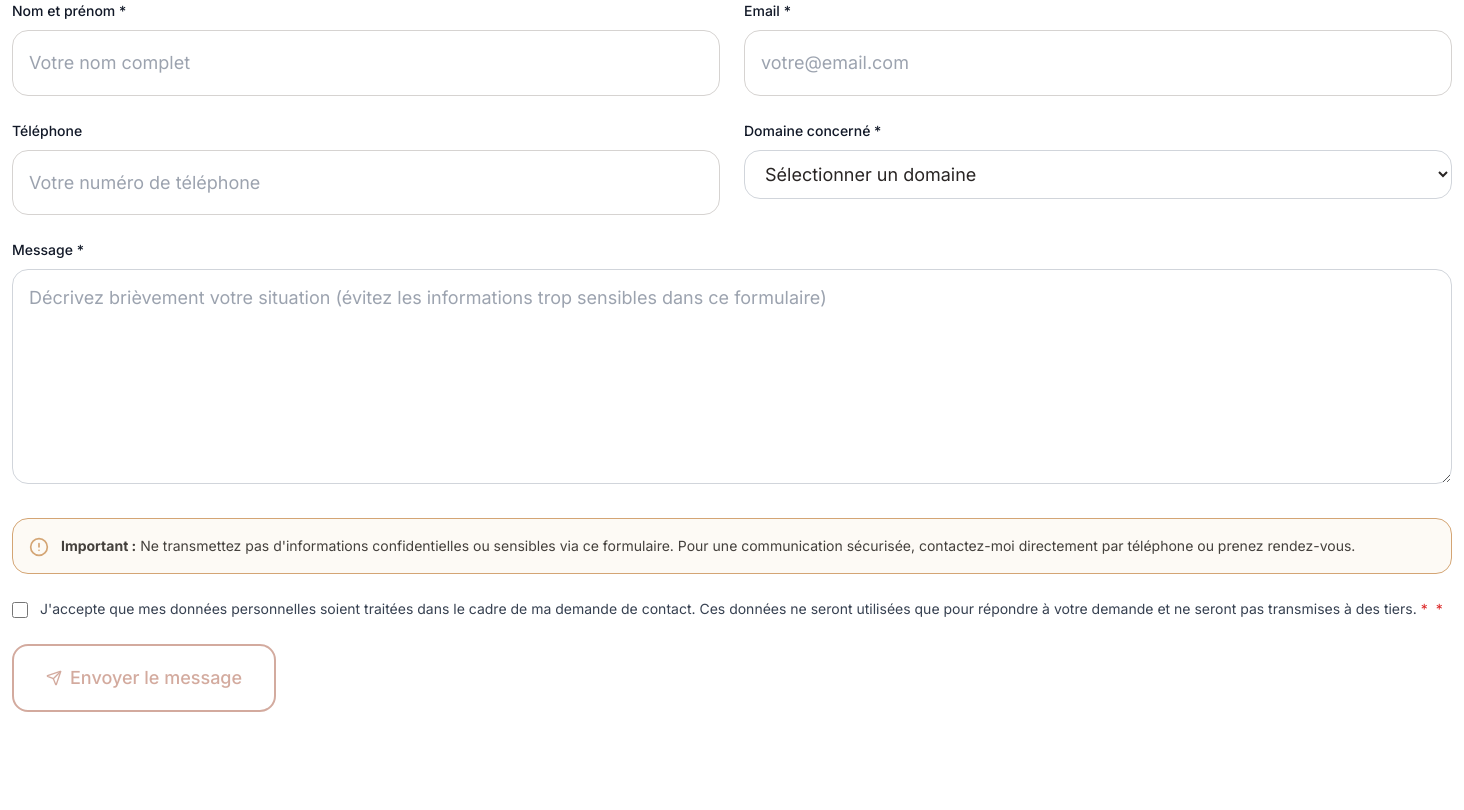
Scenario: ContactForm Integration › should show loading state while submitting
Note: Fill in all required fields
In the field labelled "Nom et prénom *": (366,63) [12,30,720,96], type "John Doe"
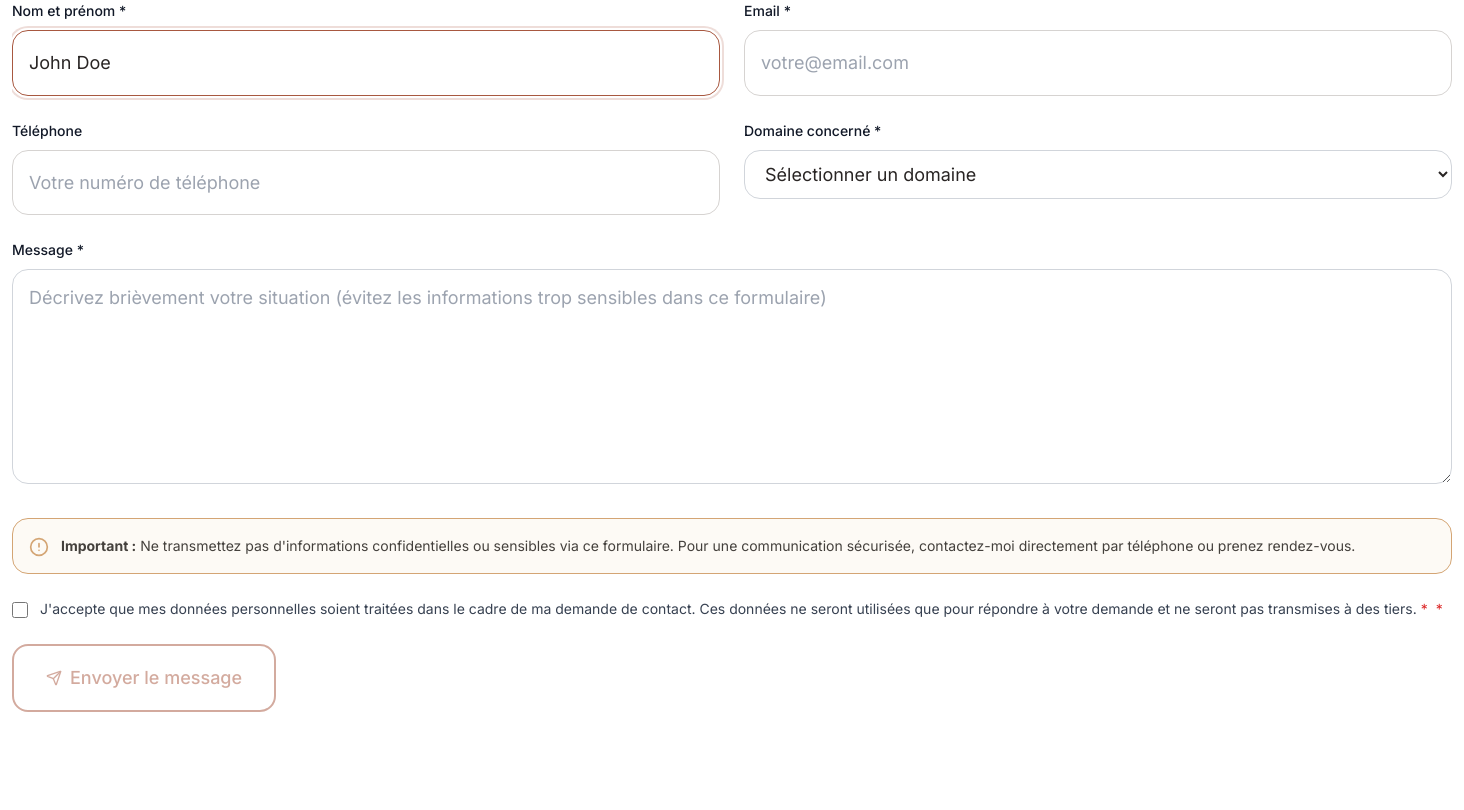
In the field labelled "Email *": (1098,63) [744,30,1452,96], type "john@example.com"
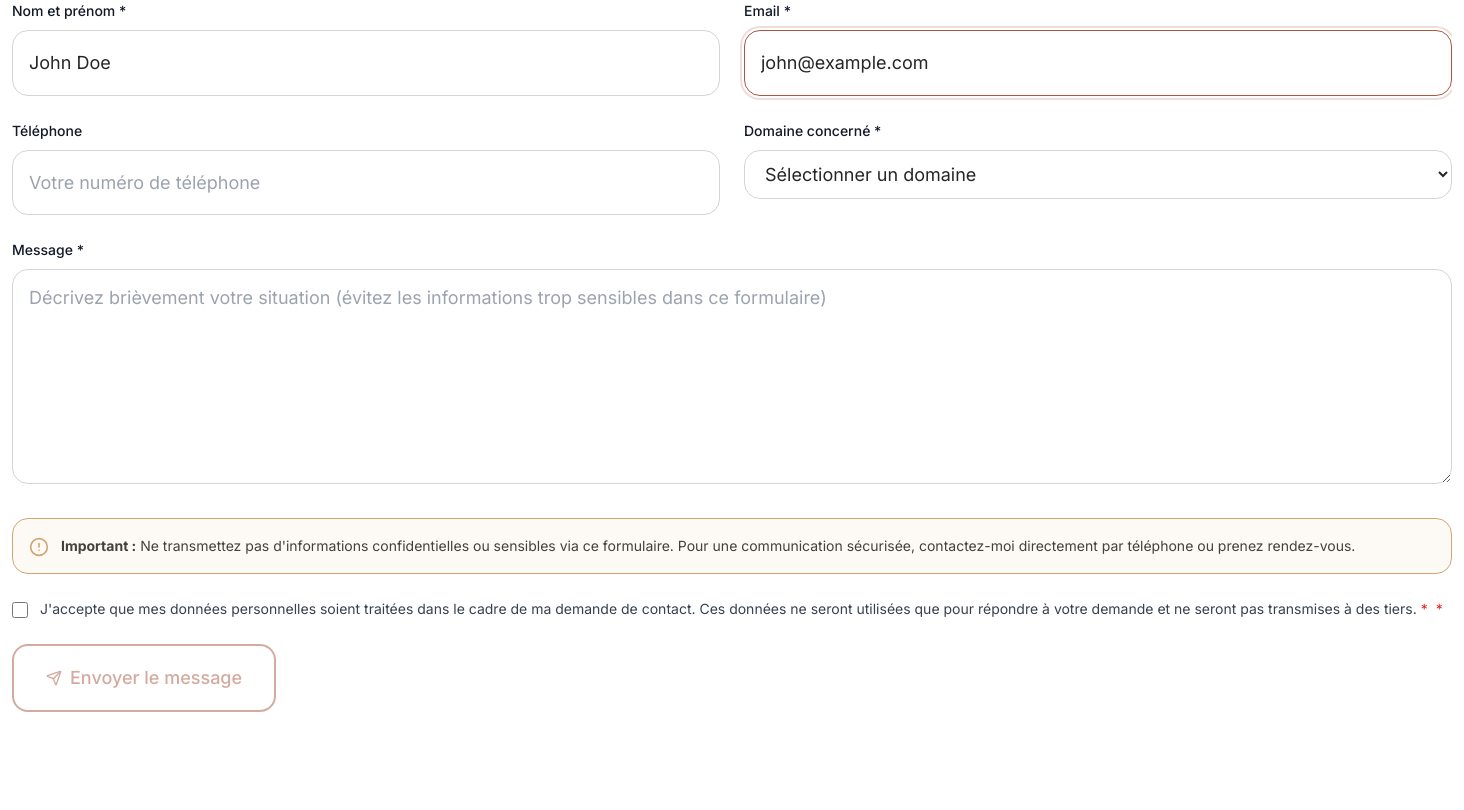
Select "Droit des contrats" in the dropdown labelled "Domaine concerné *": (1098,174) [744,150,1452,198]
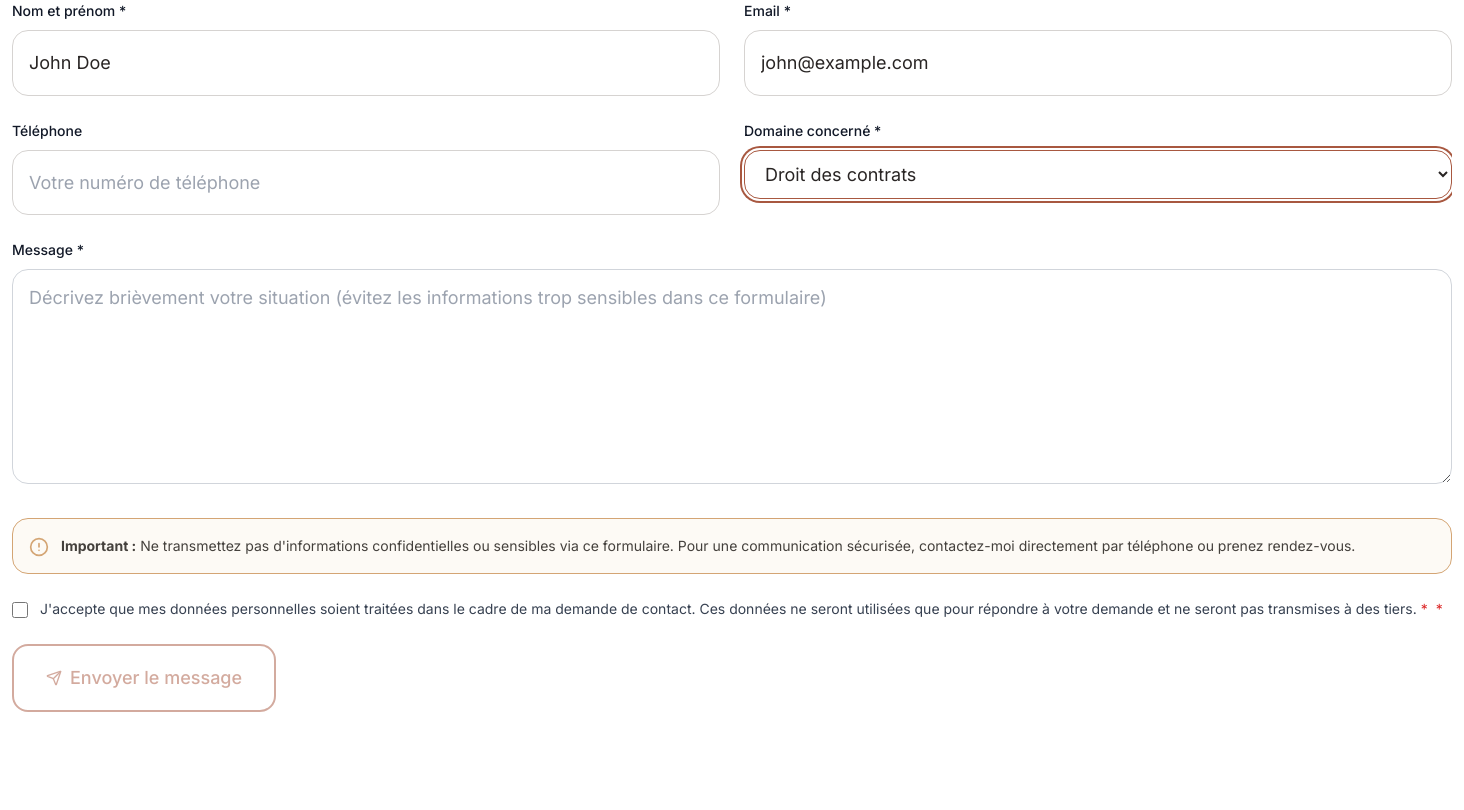
In the text box labelled "Message *": (732,376) [12,269,1452,484], type "This is a test message"
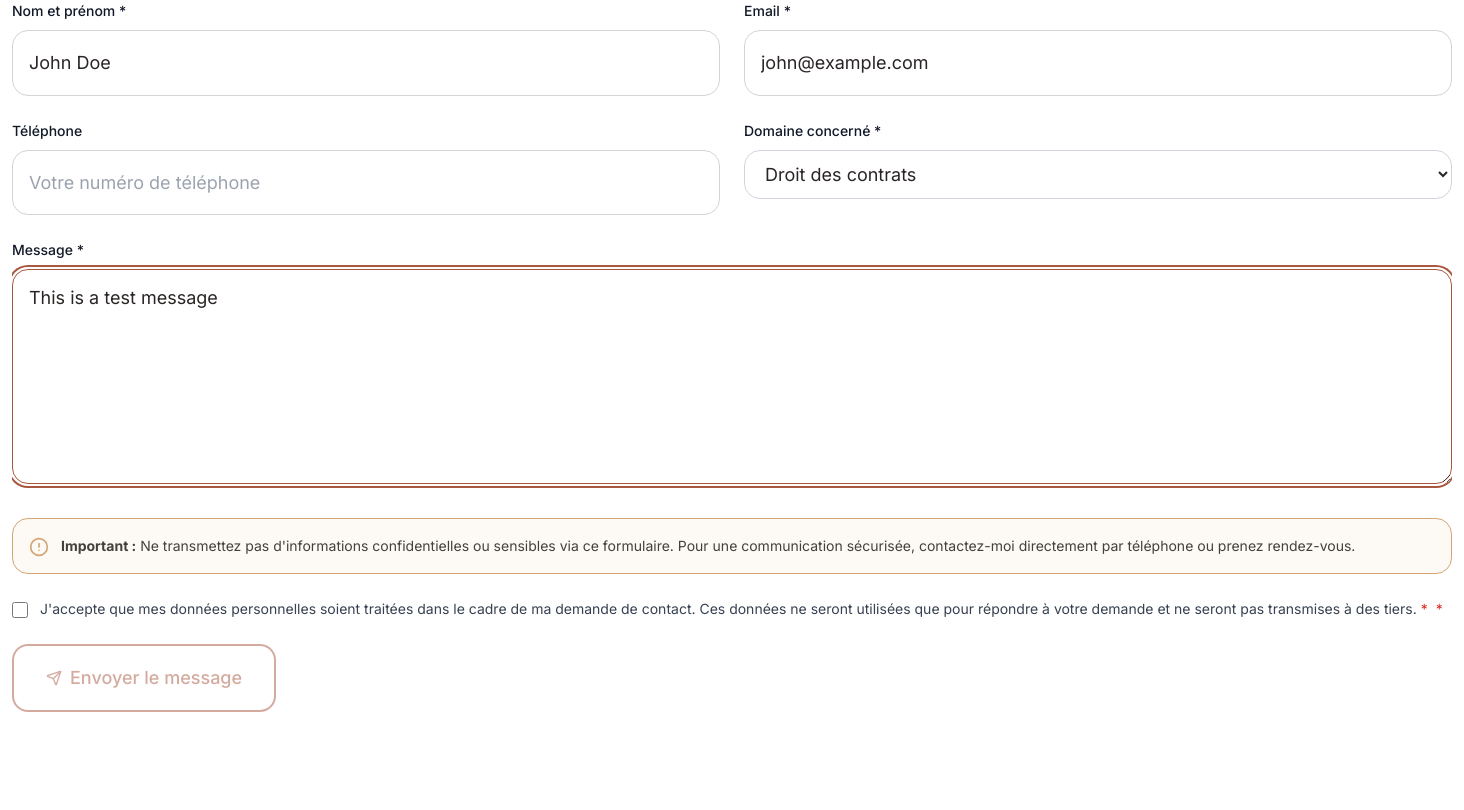
Click the checkbox: (20,610) [12,602,28,618]
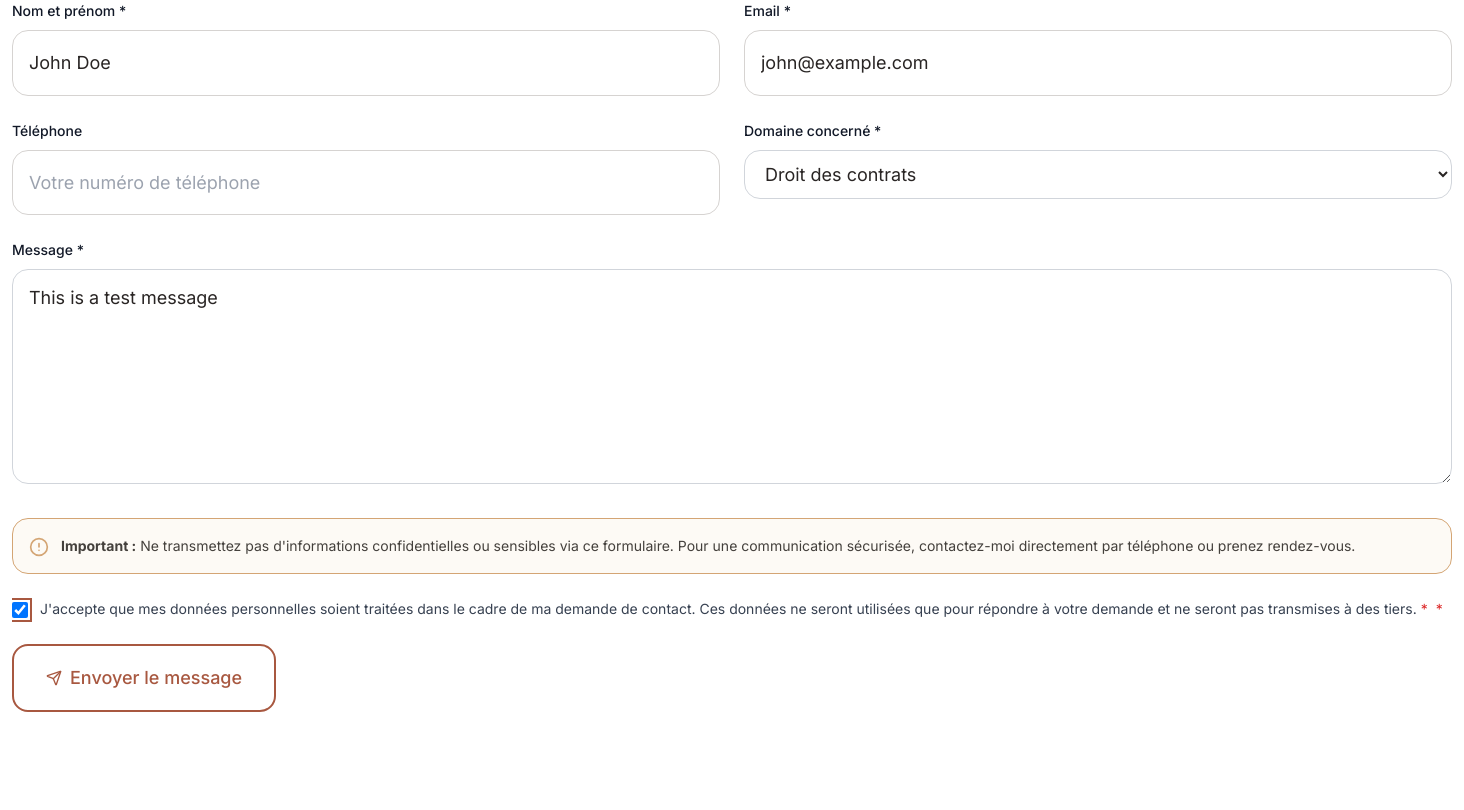
Click the button "Envoyer le message": (144,678) [12,644,276,712]
(page scrolled)
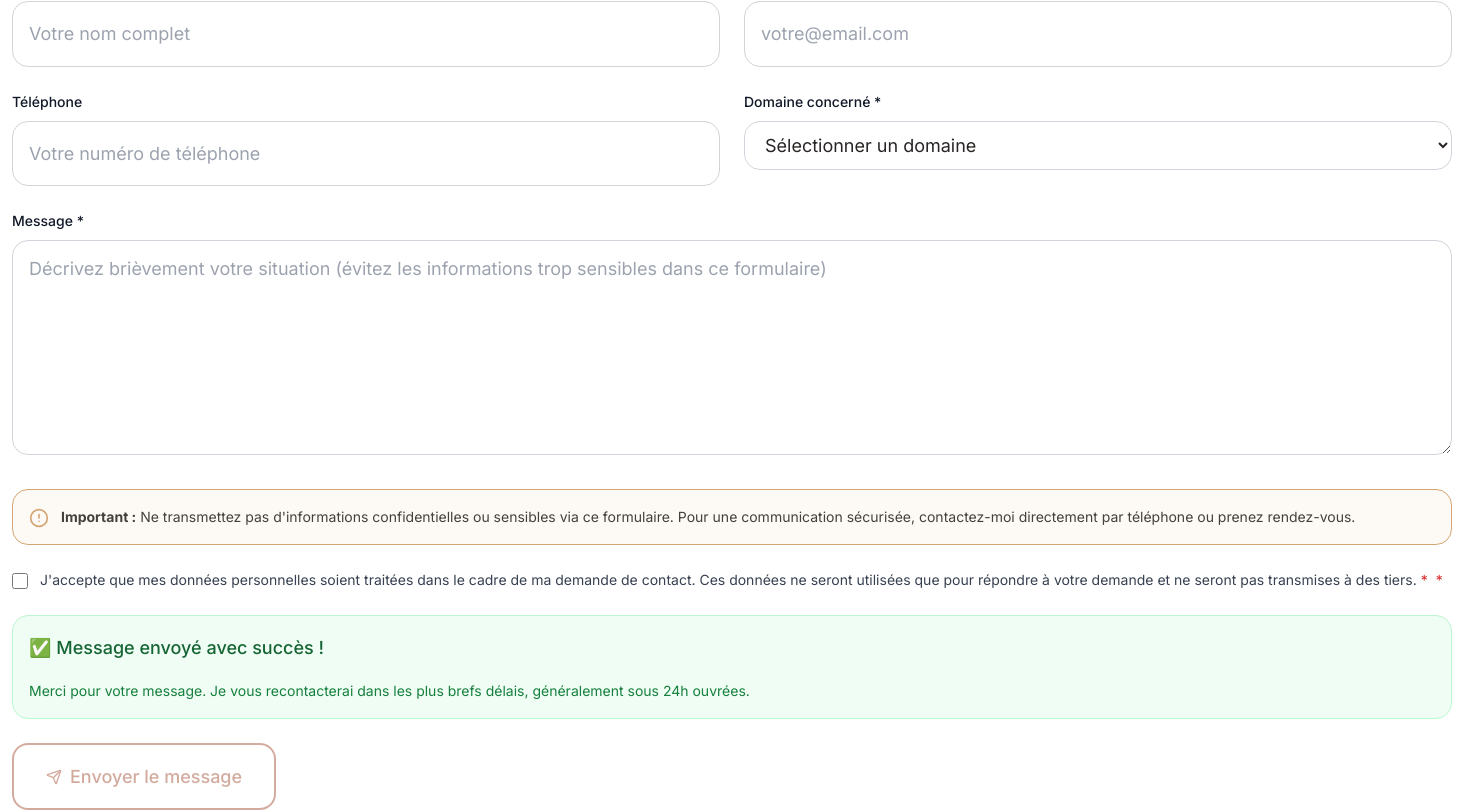
Expected: the text "Envoyer le message" is shown, [70,761,242,792]
Expected: the button "Envoyer le message" is disabled, [12,743,276,809]
